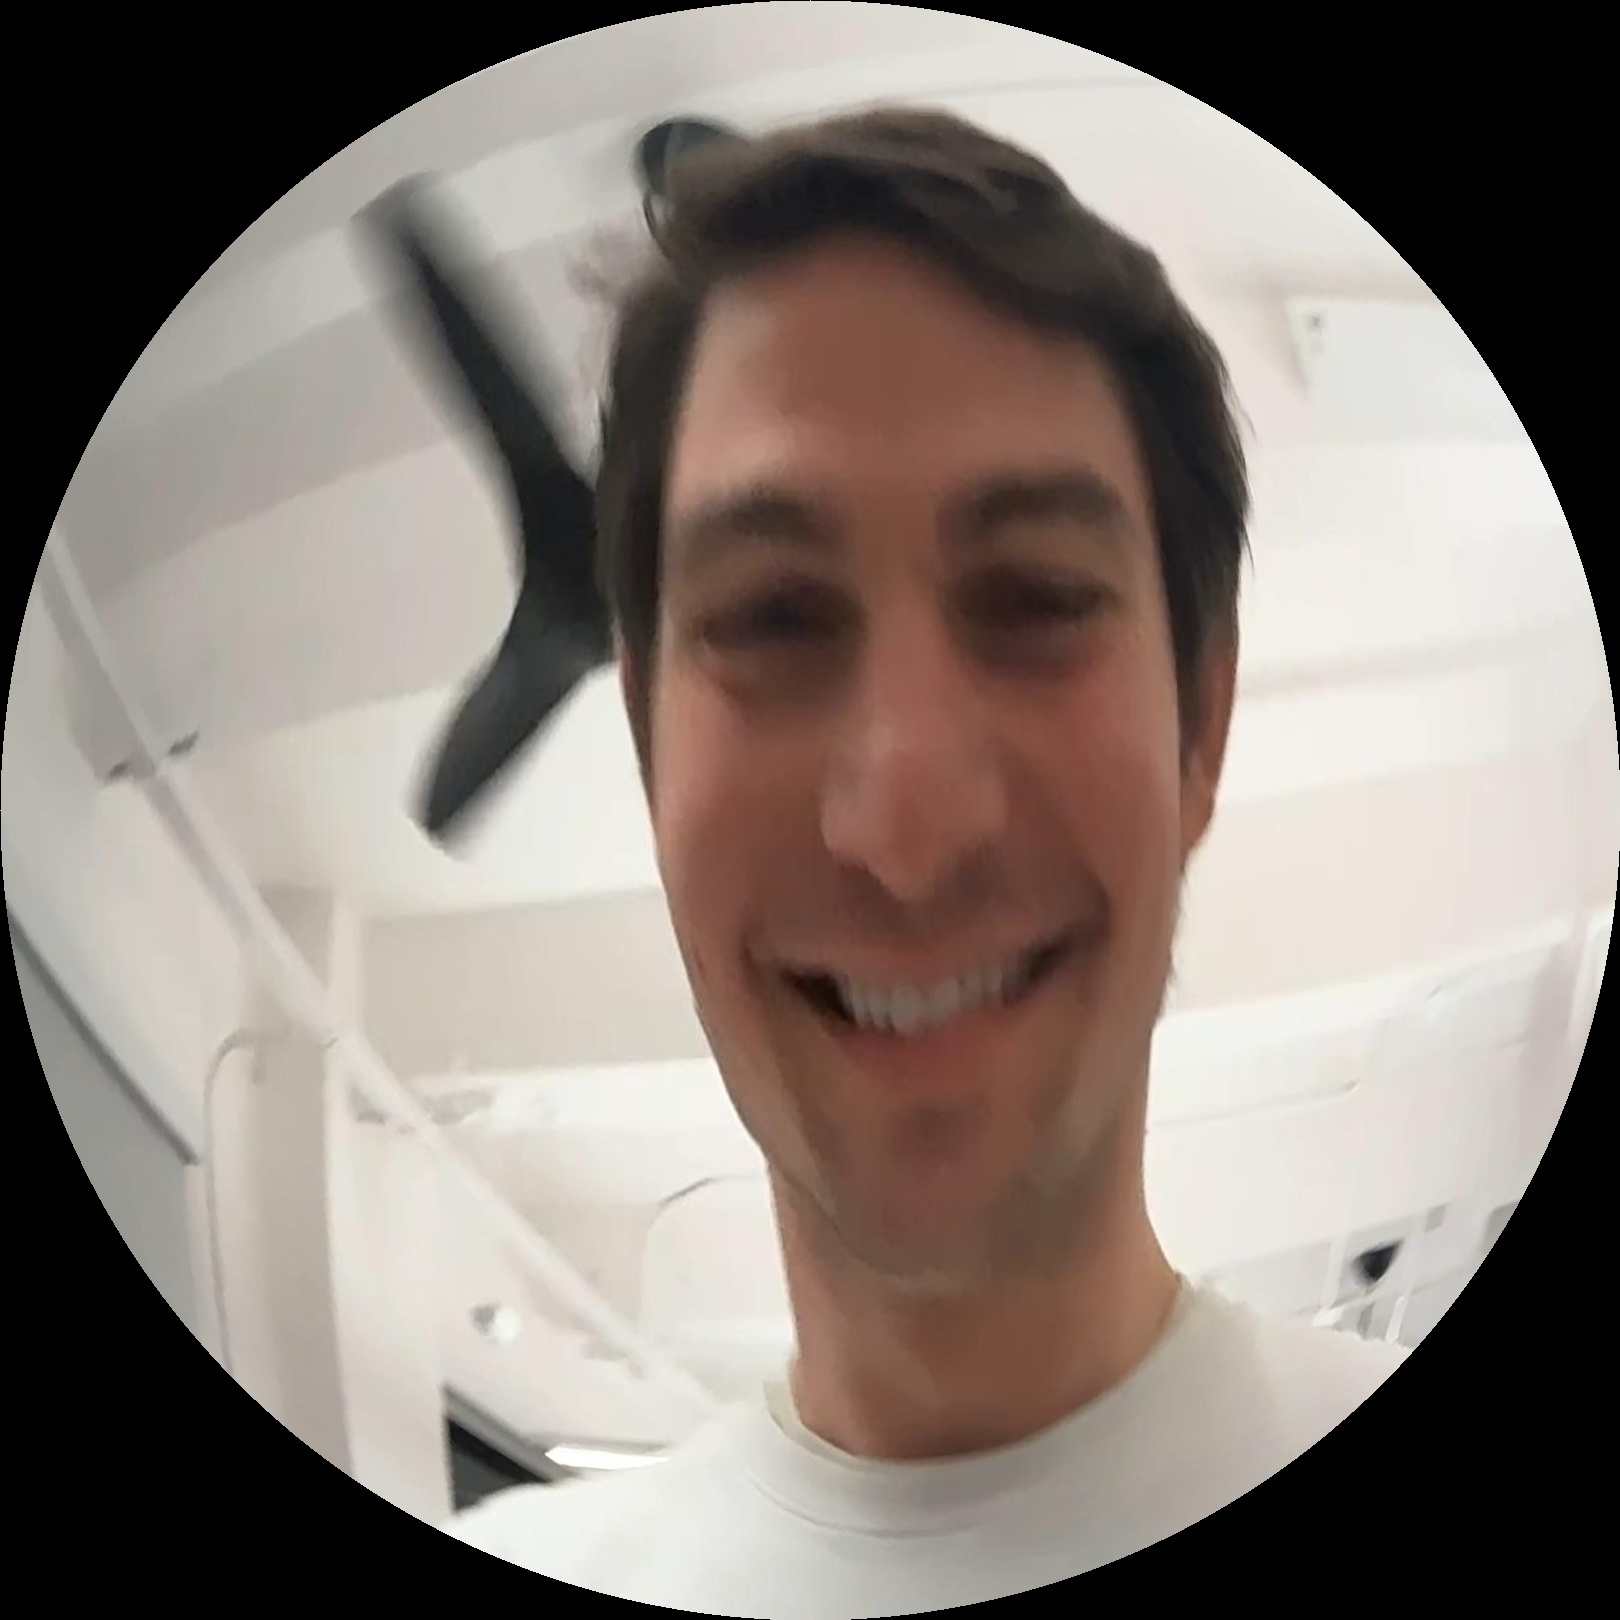face: (636, 288, 1169, 1314)
